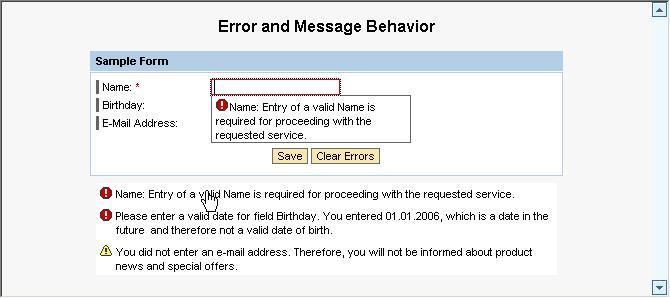button: (311, 147, 382, 166), (272, 147, 309, 166)
icon: (97, 206, 115, 225), (98, 187, 115, 202), (653, 3, 670, 17), (99, 245, 116, 259)
input: (210, 77, 343, 98)
label: (102, 117, 181, 132), (93, 56, 173, 70), (102, 98, 149, 112), (102, 81, 145, 95)
